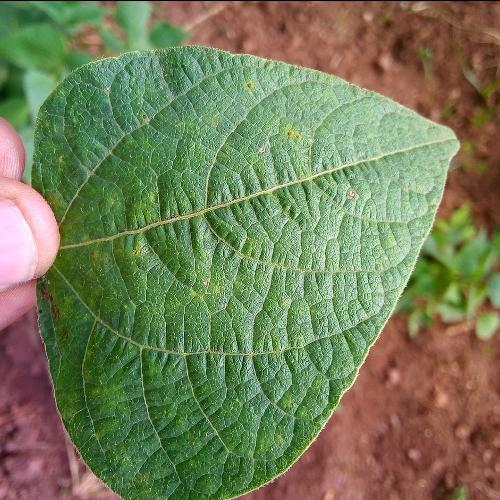sehat: (90, 65, 379, 372)
